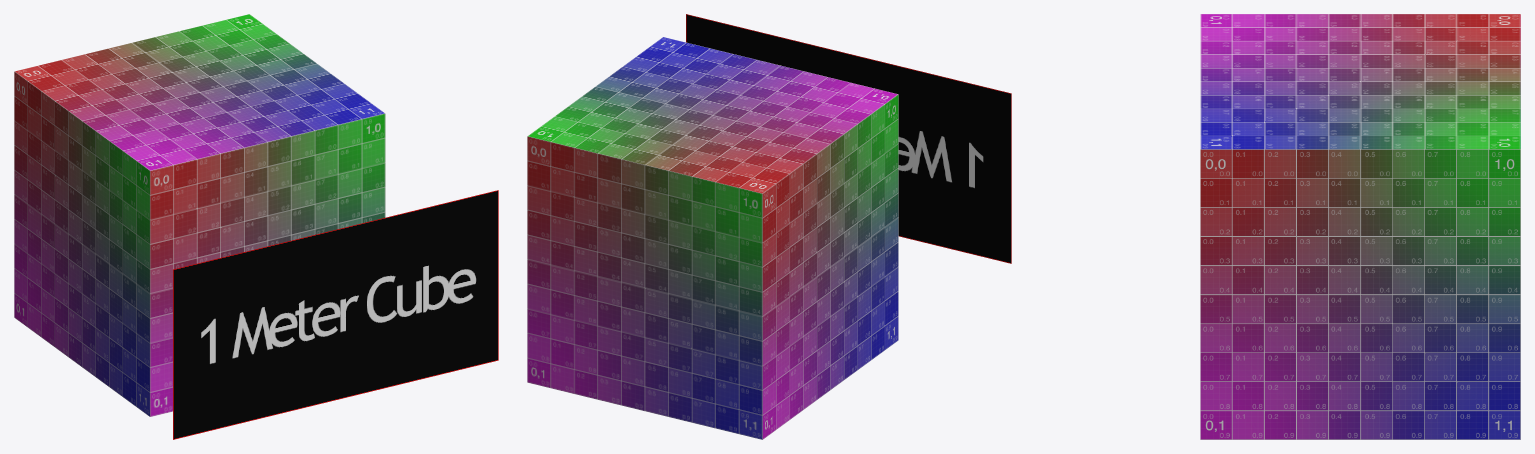
The model's file is 1MeterCube.fbx.
The picture shows the model from 3 angles, left to right: view 1: azimuth 30°, elevation 25°; view 2: azimuth 150°, elevation 25°; view 3: azimuth 270°, elevation 25°; orthographic projection. The views are drawn at different scales.
Parts seen in each view (by area): view 1: Cube, Plane; view 2: Cube, Plane; view 3: Cube.
Part boxes in pixels (bbox=[...]): Cube: bbox=[14, 14, 385, 416]; Plane: bbox=[173, 190, 498, 439]; Cube: bbox=[527, 37, 898, 439]; Plane: bbox=[686, 14, 1011, 263]; Cube: bbox=[1200, 14, 1520, 439].
Size of the model in its own units: 138 by 100 by 150.
Materials: 2 (2 with a texture image).
